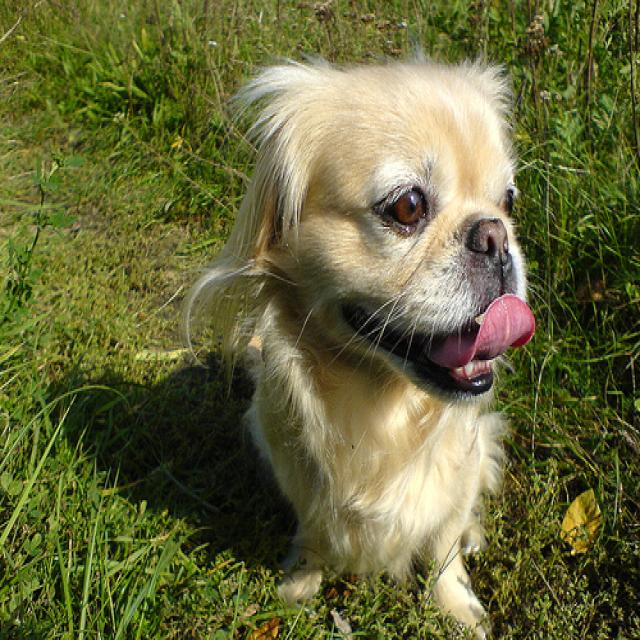dog-japanese_chin: (173, 48, 540, 637)
